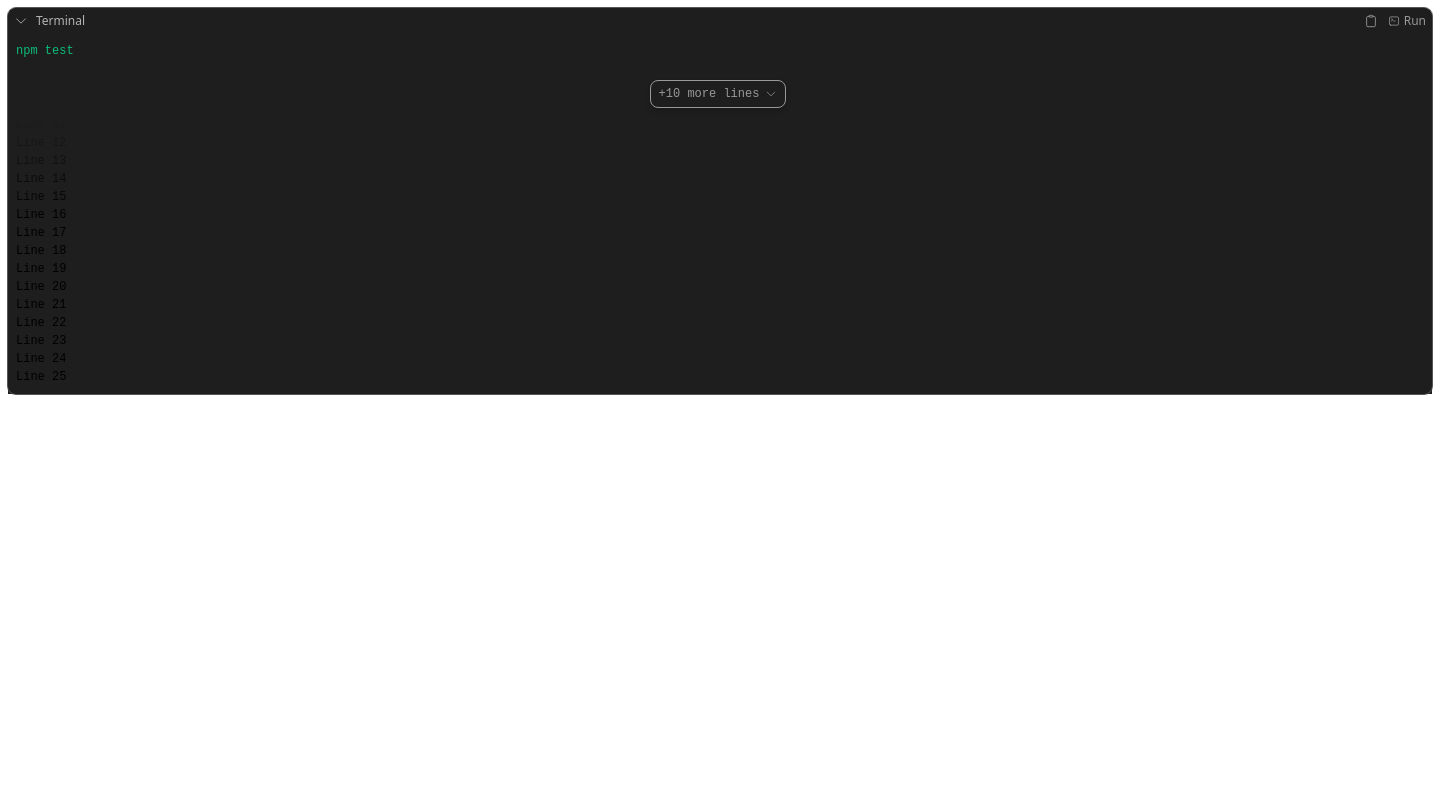
Scenario: UnifiedTerminalCommand › shows collapsible output for long content
The image size is (1440, 810).
Note: Click to expand using the "+X more lines" button
Click the text "+10 more lines": (709, 94) [659,85,759,103]
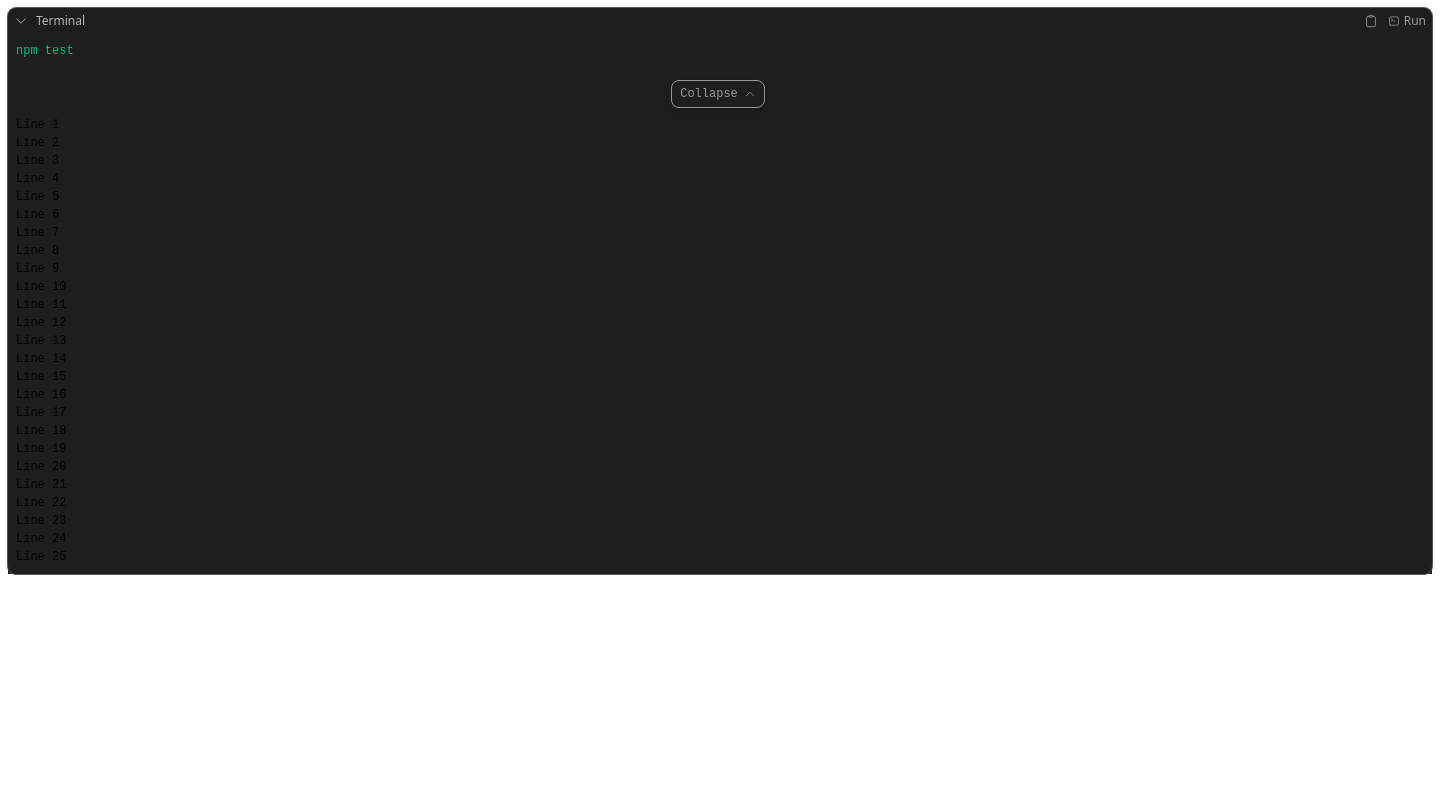
Expected: the text "Line 1" is shown, [16,118,66,564]
Now the text "Collapse" is shown, box [680,85,738,103]
